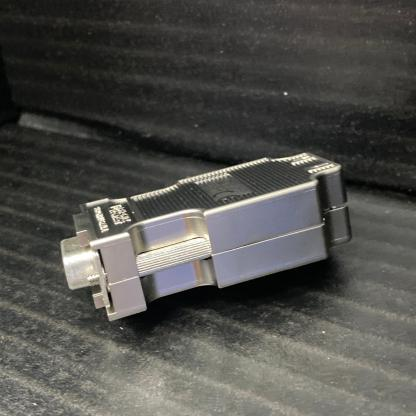SP0000010: (46, 112, 374, 348)
